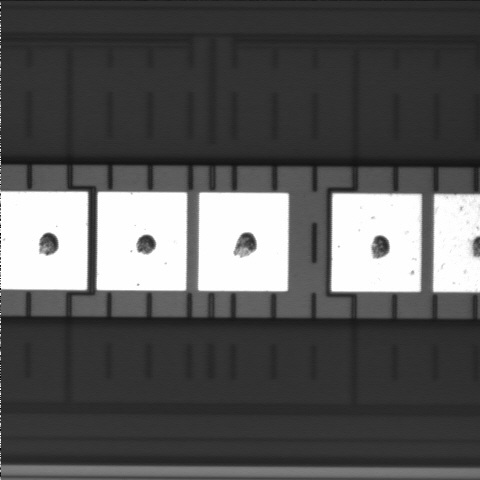pad: (198, 193, 289, 291), (97, 192, 187, 291), (331, 194, 421, 292)
